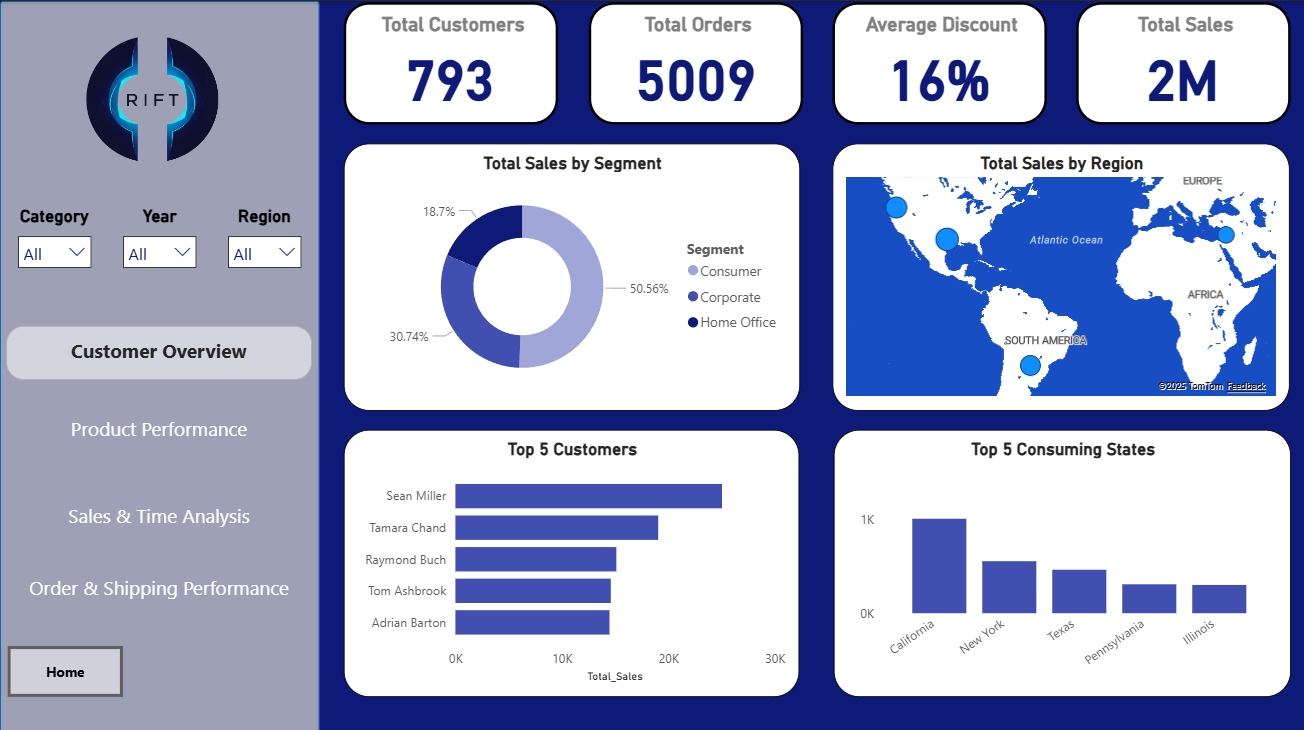

The page's visual inventory and layout, read from the dashboard file:
{"tool":"powerbi","page":{"name":"Customer Overview","canvas":[1280,720],"ordinal":1},"visuals":[{"type":"shape","box":[0,0,313.8,720],"z":0},{"type":"card","title":"Total Customers","fields":{"Values":["DAX_Table.Total_Customers"]},"box":[338,1.4,210,120],"z":1000},{"type":"card","title":"Total Orders","fields":{"Values":["DAX_Table.Total_Order"]},"box":[577.6,1.4,210,120],"z":2000},{"type":"card","title":"Average Discount","fields":{"Values":["DAX_Table.AVG_Discount"]},"box":[817.1,1.4,210,120],"z":3000},{"type":"card","title":"Total Sales","fields":{"Values":["DAX_Table.Total_Sales"]},"box":[1056.7,1.4,210,120],"z":4000},{"type":"slicer","title":"Year","fields":{"Values":["DateDim.Order Date.Variation.Date Hierarchy.Year"]},"box":[110.5,201.6,92.6,63.2],"z":5000},{"type":"slicer","title":"Category","fields":{"Values":["ProductDim.Category"]},"box":[7.9,201.6,92.1,63.7],"z":6000},{"type":"slicer","title":"Region","fields":{"Values":["CustomerDim.Region"]},"box":[213.7,201.6,92.1,63.2],"z":7000},{"type":"image","box":[18.6,0,262.9,191.4],"z":8000},{"type":"actionButton","box":[7.8,633.3,113.3,50],"z":9000},{"type":"textbox","box":[6.2,318.8,300,52.5],"z":10000},{"type":"textbox","box":[6.2,402.5,300,52.5],"z":11000},{"type":"textbox","box":[6.2,487.5,300,52.5],"z":12000},{"type":"textbox","box":[6.2,558.8,300,52.5],"z":13000},{"type":"donutChart","title":"Total Sales by Segment","fields":{"Y":["DAX_Table.Total_Sales"],"Category":["CustomerDim.Segment"]},"box":[337.5,140,448,262.5],"z":14000},{"type":"azureMap","title":"Total Sales by Region","fields":{"Category":["CustomerDim.Region"],"Size":["DAX_Table.Total_Sales"]},"box":[817.5,140,448.8,262.5],"z":15000},{"type":"barChart","title":"Top 5 Customers","fields":{"Category":["CustomerDim.Customer Name"],"Y":["DAX_Table.Total_Sales"]},"box":[337.5,421.2,447.5,262.5],"z":16000},{"type":"columnChart","title":"Top 5 Consuming States","fields":{"Category":["CustomerDim.State"],"Y":["DAX_Table.Total_Order"]},"box":[818.8,421.2,448.8,262.5],"z":17000},{"type":"actionButton","box":[7.1,402.9,298.6,52.9],"z":18000},{"type":"actionButton","box":[8.6,487.1,297.1,52.9],"z":19000},{"type":"actionButton","box":[5.7,558.6,300,52.9],"z":20000}]}

Visuals, with their boxes in screenshot pixels (x1, y1, x2, y2), scaled from the page's 1280x720 canvas onto the 1304x730 screenshot:
shape: bbox(0, 0, 320, 729)
"Total Customers" card: bbox(344, 1, 558, 123)
"Total Orders" card: bbox(588, 1, 802, 123)
"Average Discount" card: bbox(832, 1, 1046, 123)
"Total Sales" card: bbox(1077, 1, 1290, 123)
"Year" slicer: bbox(113, 204, 207, 268)
"Category" slicer: bbox(8, 204, 102, 269)
"Region" slicer: bbox(218, 204, 312, 268)
image: bbox(19, 0, 287, 194)
actionButton: bbox(8, 642, 123, 693)
textbox: bbox(6, 323, 312, 376)
textbox: bbox(6, 408, 312, 461)
textbox: bbox(6, 494, 312, 548)
textbox: bbox(6, 567, 312, 620)
"Total Sales by Segment" donutChart: bbox(344, 142, 800, 408)
"Total Sales by Region" azureMap: bbox(833, 142, 1290, 408)
"Top 5 Customers" barChart: bbox(344, 427, 800, 693)
"Top 5 Consuming States" columnChart: bbox(834, 427, 1291, 693)
actionButton: bbox(7, 408, 311, 462)
actionButton: bbox(9, 494, 311, 548)
actionButton: bbox(6, 566, 311, 620)
